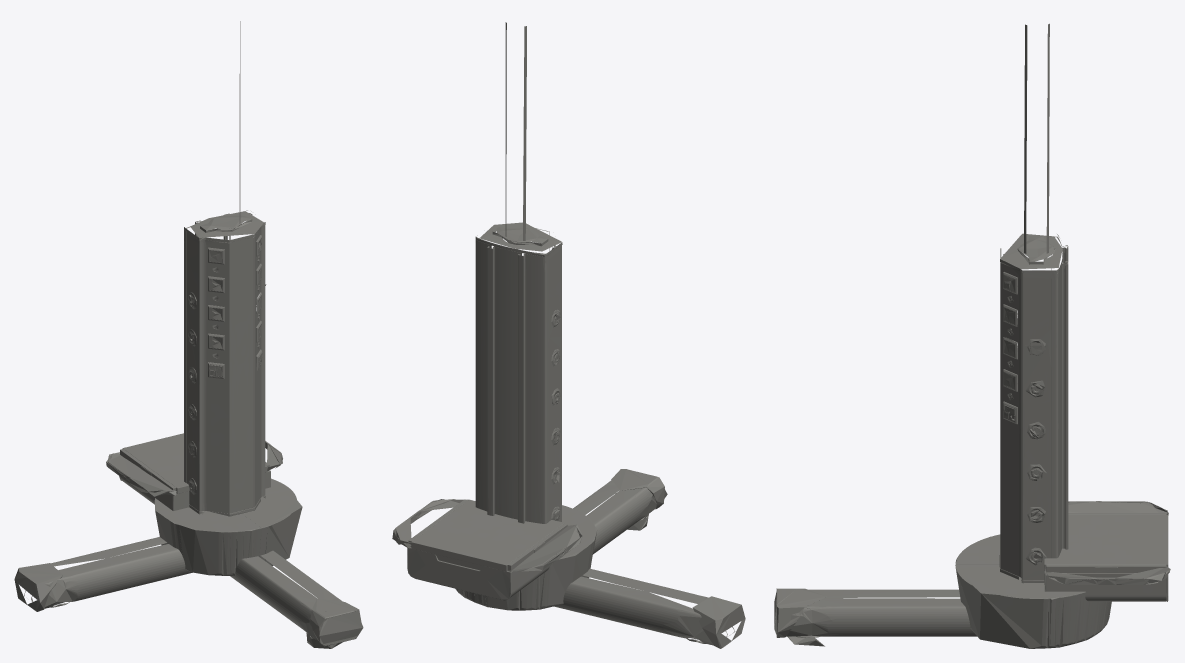
Rendered from arm_articulated_support_a01.glb.
The picture shows the model from 3 angles, left to right: view 1: azimuth 30°, elevation 25°; view 2: azimuth 150°, elevation 25°; view 3: azimuth 270°, elevation 25°; orthographic projection. The views are drawn at different scales.
Parts seen in each view (by area): view 1: geometry_0; view 2: geometry_0; view 3: geometry_0.
Part boxes in pixels (<box>): geometry_0: <box>14,21,363,648</box>; geometry_0: <box>392,22,745,648</box>; geometry_0: <box>774,23,1170,648</box>.
Size of the model in its own units: 0.2157 by 0.42 by 0.2433.
1 material, 1 textured.
